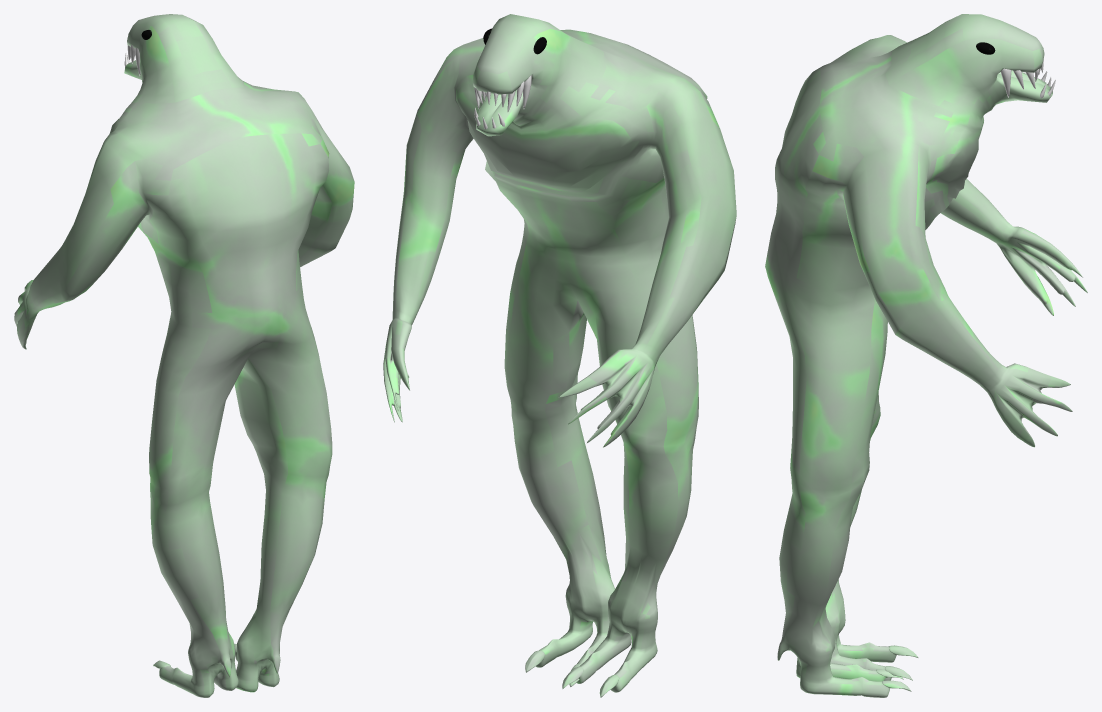
Rendered from Berserkercorrer.0005.obj.
3 views of the same model, side by side, from view 1: azimuth 30°, elevation 25°; view 2: azimuth 150°, elevation 25°; view 3: azimuth 270°, elevation 25° (orthographic). The views are drawn at different scales.
Parts seen in each view (by area): view 1: polySurface27; view 2: polySurface27; view 3: polySurface27.
Boxes of the visible parts, x1,y1,x2,y2 form: polySurface27: (14, 14, 354, 697); polySurface27: (383, 14, 736, 697); polySurface27: (765, 14, 1087, 697).
Size of the model in its own units: 11.44 by 24.18 by 10.55.
1 material, 1 textured.
